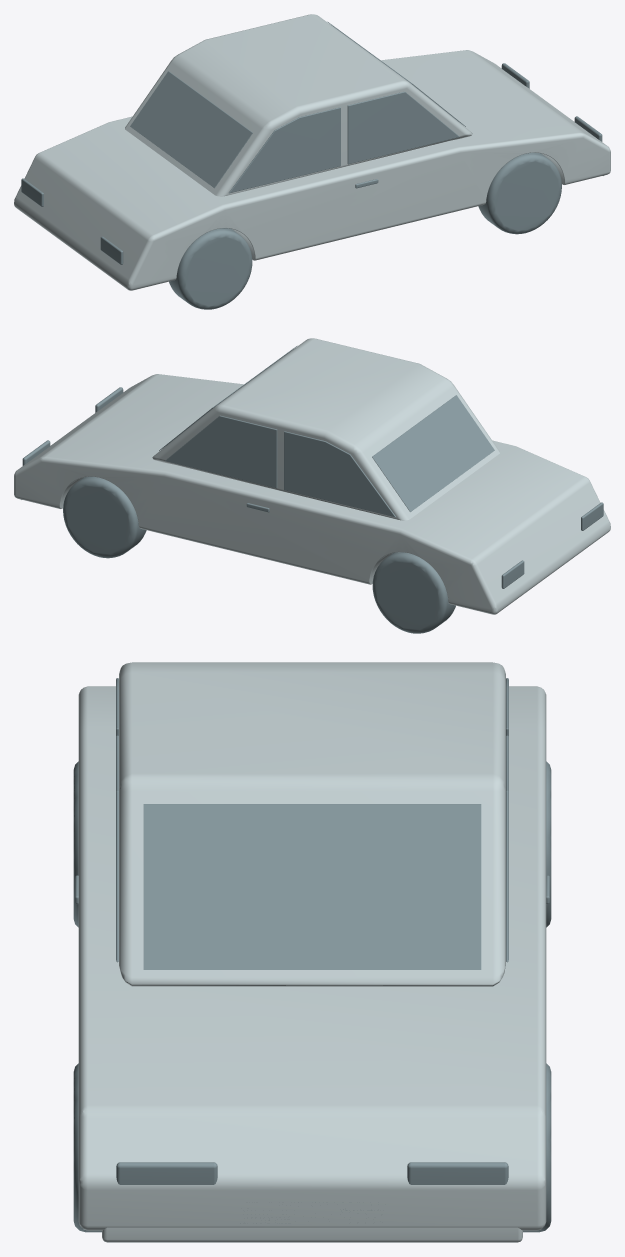
File: car.glb
3 views of the same model, one above another, from view 1: azimuth 30°, elevation 25°; view 2: azimuth 150°, elevation 25°; view 3: azimuth 270°, elevation 25° (orthographic). The views are drawn at different scales.
Parts seen in each view (by area): view 1: body_shell, cabin, rear_windscreen, front_window_1, rear_window_1, tyre_1.376_1, tyre_-1.376_1; view 2: body_shell, cabin, rear_windscreen, front_window_-1, rear_window_-1, tyre_1.376_-1, tyre_-1.376_-1; view 3: body_shell, cabin, windscreen, front_bumper, headlight_1, headlight_-1, tyre_1.376_1, tyre_1.376_-1, tyre_-1.376_1, tyre_-1.376_-1.
Boxes of the visible parts, left/top/right/bottom form: body_shell: left=14, top=50, right=610, bottom=290; cabin: left=125, top=14, right=472, bottom=196; rear_windscreen: left=130, top=71, right=252, bottom=187; front_window_1: left=347, top=91, right=459, bottom=164; rear_window_1: left=229, top=107, right=340, bottom=193; tyre_1.376_1: left=478, top=152, right=561, bottom=234; tyre_-1.376_1: left=169, top=228, right=252, bottom=309; body_shell: left=14, top=374, right=610, bottom=614; cabin: left=152, top=338, right=499, bottom=520; rear_windscreen: left=372, top=395, right=494, bottom=511; front_window_-1: left=165, top=415, right=277, bottom=488; rear_window_-1: left=284, top=431, right=395, bottom=517; tyre_1.376_-1: left=63, top=476, right=146, bottom=558; tyre_-1.376_-1: left=372, top=552, right=455, bottom=633; body_shell: left=78, top=686, right=546, bottom=1230; cabin: left=119, top=662, right=505, bottom=986; windscreen: left=143, top=804, right=481, bottom=969; front_bumper: left=102, top=1227, right=522, bottom=1242; headlight_1: left=116, top=1162, right=217, bottom=1184; headlight_-1: left=407, top=1162, right=508, bottom=1184; tyre_1.376_1: left=73, top=1063, right=101, bottom=1232; tyre_1.376_-1: left=523, top=1063, right=551, bottom=1232; tyre_-1.376_1: left=73, top=761, right=78, bottom=927; tyre_-1.376_-1: left=546, top=761, right=551, bottom=927.
Bounding box in the file's own units: 4.3 × 1.45 × 1.84.
